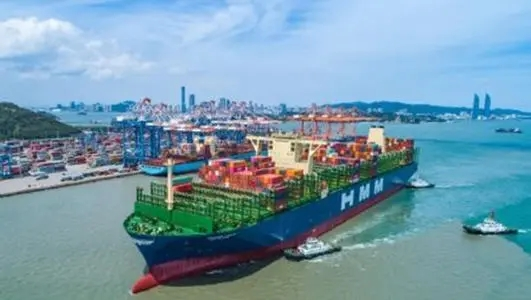Cargoship: (122, 118, 418, 293)
otherboat: (277, 232, 341, 263), (458, 210, 517, 236), (404, 175, 433, 189)
